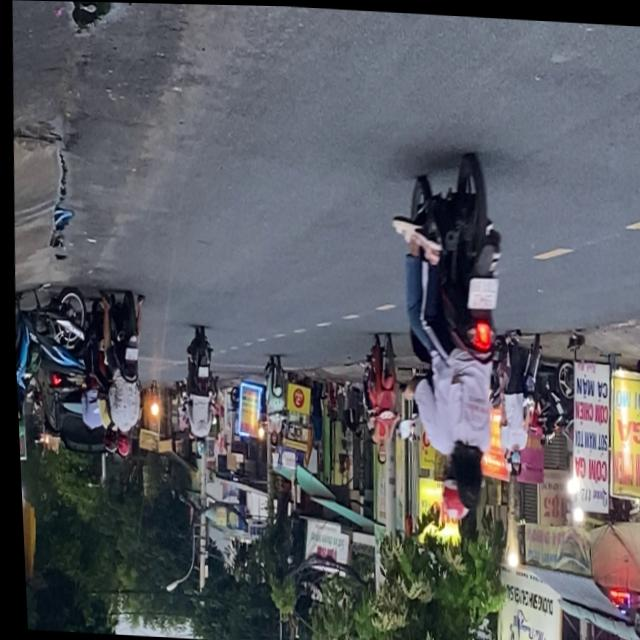helmet: (433, 456, 466, 517), (111, 430, 127, 456)
licenseplate: (381, 144, 513, 523), (91, 287, 147, 458), (354, 330, 402, 466)
motorcyclist: (446, 442, 482, 507), (371, 440, 384, 464)
nohelmet: (464, 274, 496, 306), (122, 346, 134, 360)
